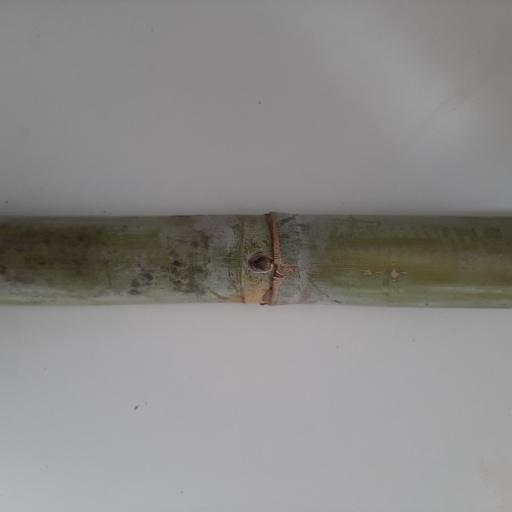Bud: (249, 251, 272, 274)
